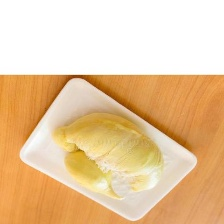foam_box: (14, 74, 200, 224)
